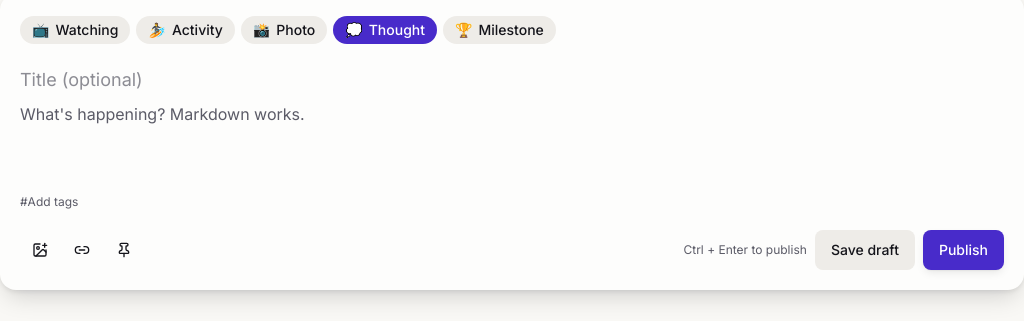
Test: UpdateComposer — tags › adds a tag on Enter and on a comma, and removes the last on Backspace
Type "#travel" into the field named "Add a tag".
click(512, 202); type("#travel")  # box [20,190,1004,214]
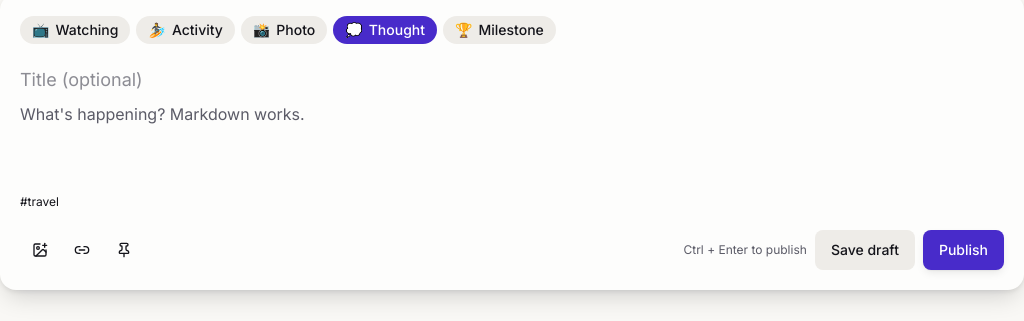
Press Enter in the field named "Add a tag", box [20,190,1004,214]
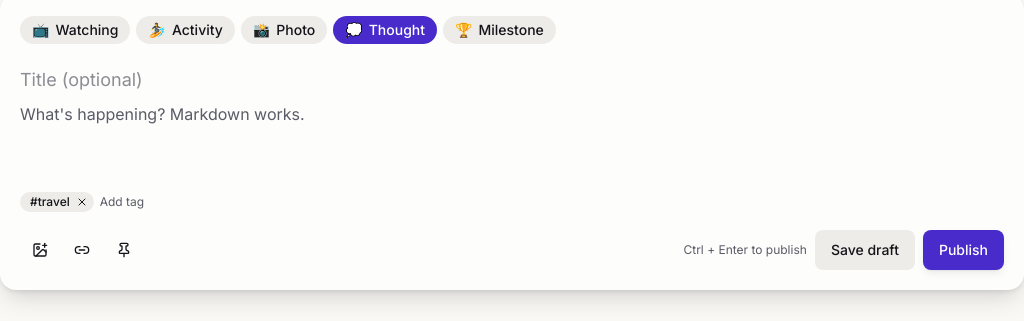
Type "books," into the field named "Add a tag".
click(552, 202); type("books,")  # box [100,190,1004,214]
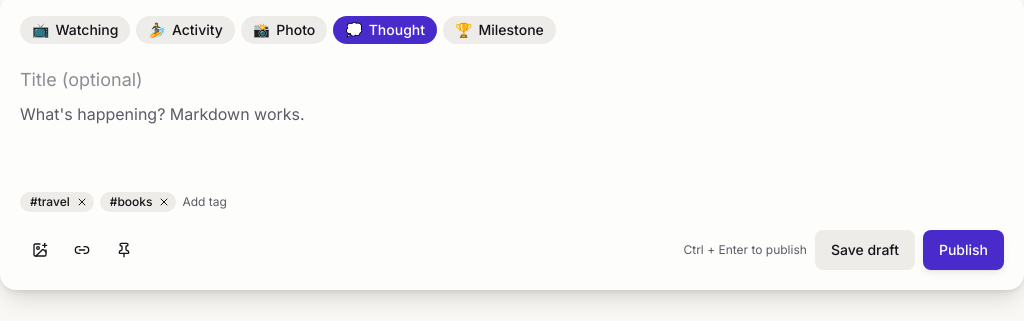
Now the text "#travel" is shown, box [20,192,94,212]
Now the text "#books" is shown, box [100,192,176,212]
Press Backspace in the field named "Add a tag", box [182,190,1004,214]
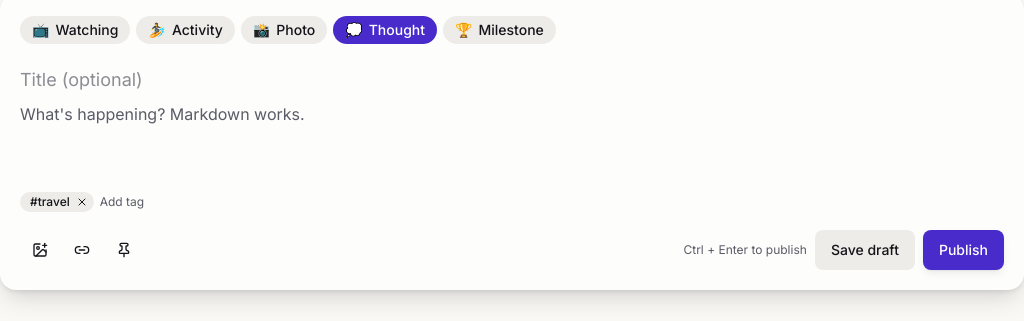
Now the text "#books" is gone
